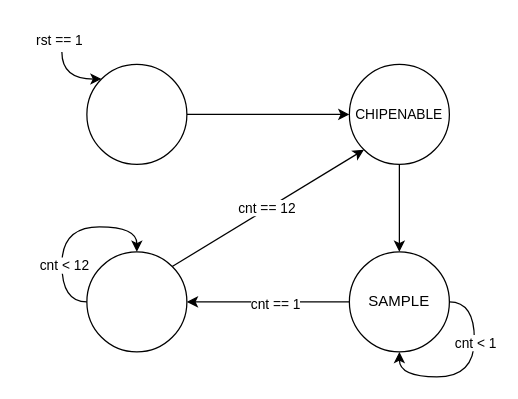
This 518x399 diagram has some shape labels left out. Each missing label, with the box of its shape:
IDLE: (86, 63, 187, 164)
TRANSFER: (86, 251, 187, 352)
